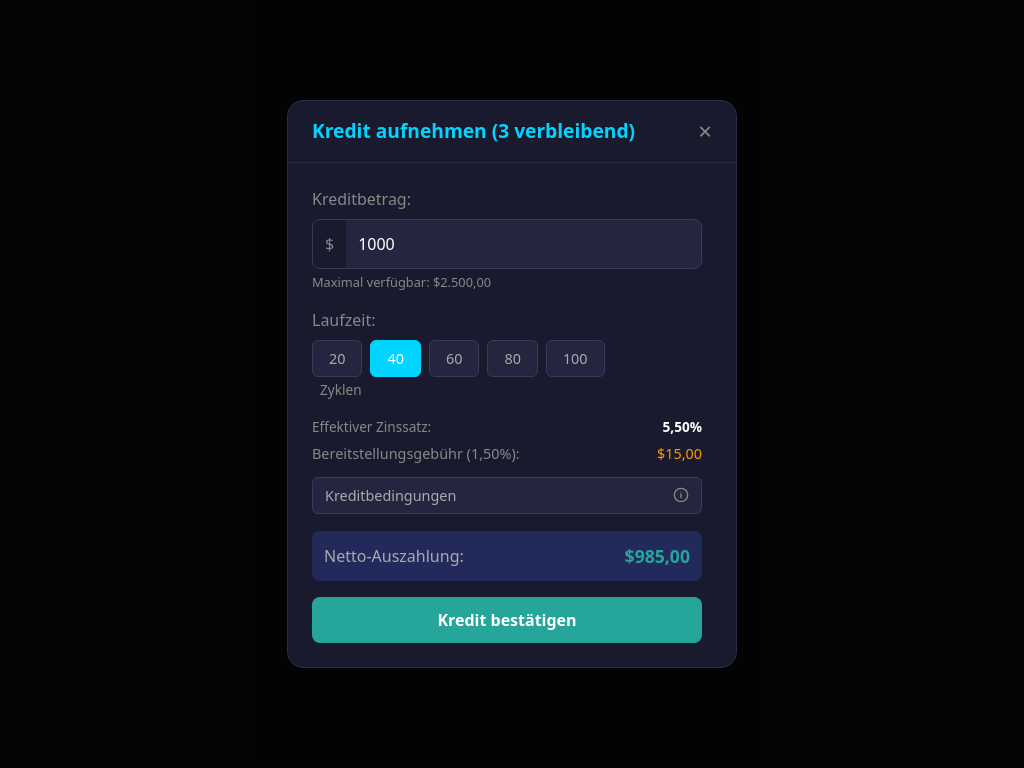
it: Loan › expandable conditions info › should expand conditions when toggle is clicked
The width and height of the screenshot is (1024, 768).
What coordinates should you click on to do the following:
click the button "Kreditbedingungen"
I would click on:
 (391, 495)
Its box is [312, 477, 702, 514].
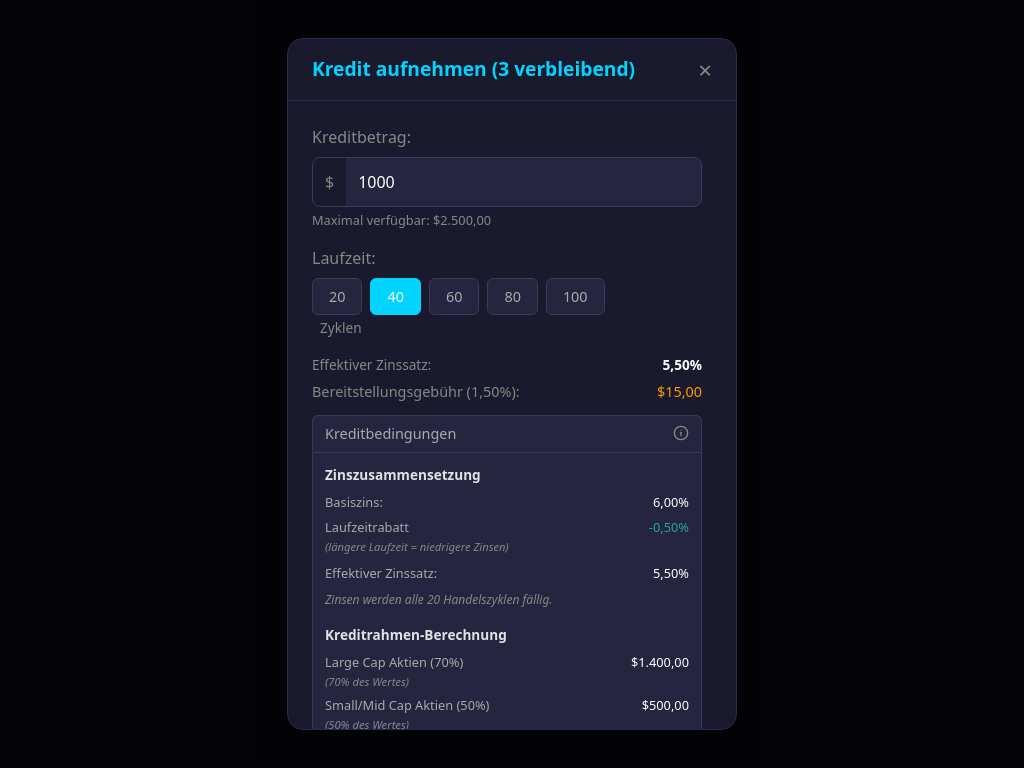
Check: the text "Basiszins:" is shown, box [325, 493, 383, 513]
Check: the text "Large Cap Aktien (70%) (70% des Wertes)" is shown, box [325, 653, 463, 691]
Check: the text "Small/Mid Cap Aktien (50%) (50% des Wertes)" is shown, box [325, 696, 490, 729]
